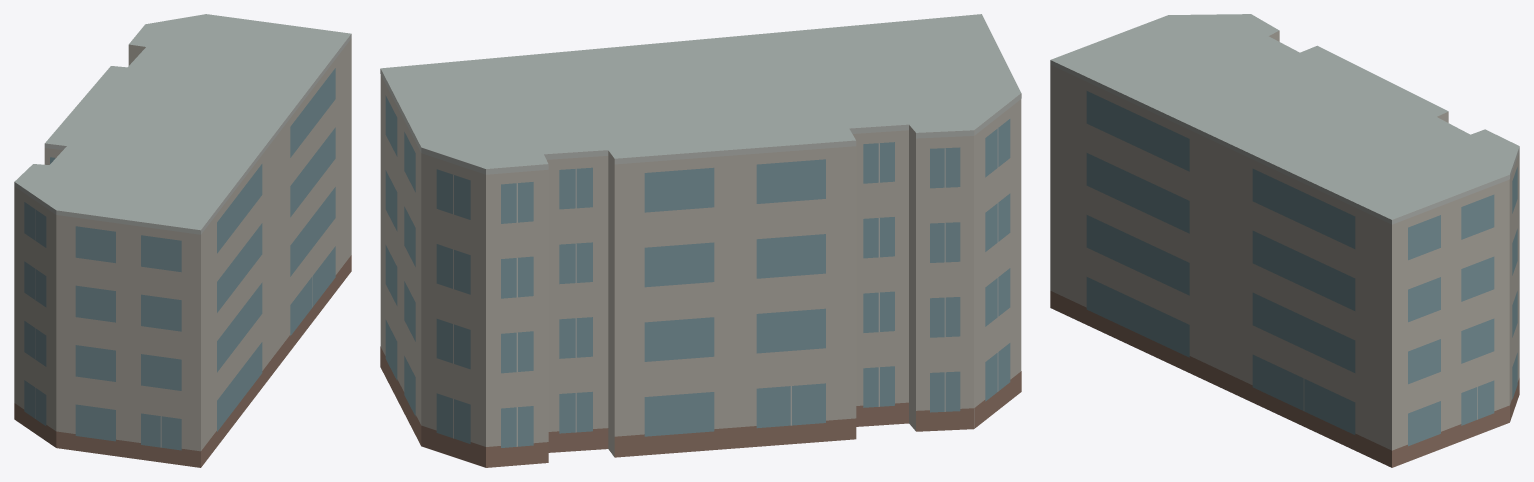
File: survey-upis-32635203.glb
3 renders of one model, left to right at view 1: azimuth 30°, elevation 25°; view 2: azimuth 150°, elevation 25°; view 3: azimuth 270°, elevation 25°, orthographic. The views are drawn at different scales.
Parts seen in each view (by area): view 1: survey-upis-32635203.tmp; view 2: survey-upis-32635203.tmp; view 3: survey-upis-32635203.tmp.
Boxes of the visible parts, <box> form: survey-upis-32635203.tmp: <box>14,14,351,467</box>; survey-upis-32635203.tmp: <box>380,14,1021,467</box>; survey-upis-32635203.tmp: <box>1050,14,1519,467</box>.
Bounding box in the file's own units: 22.81 × 12.8 × 21.97.
